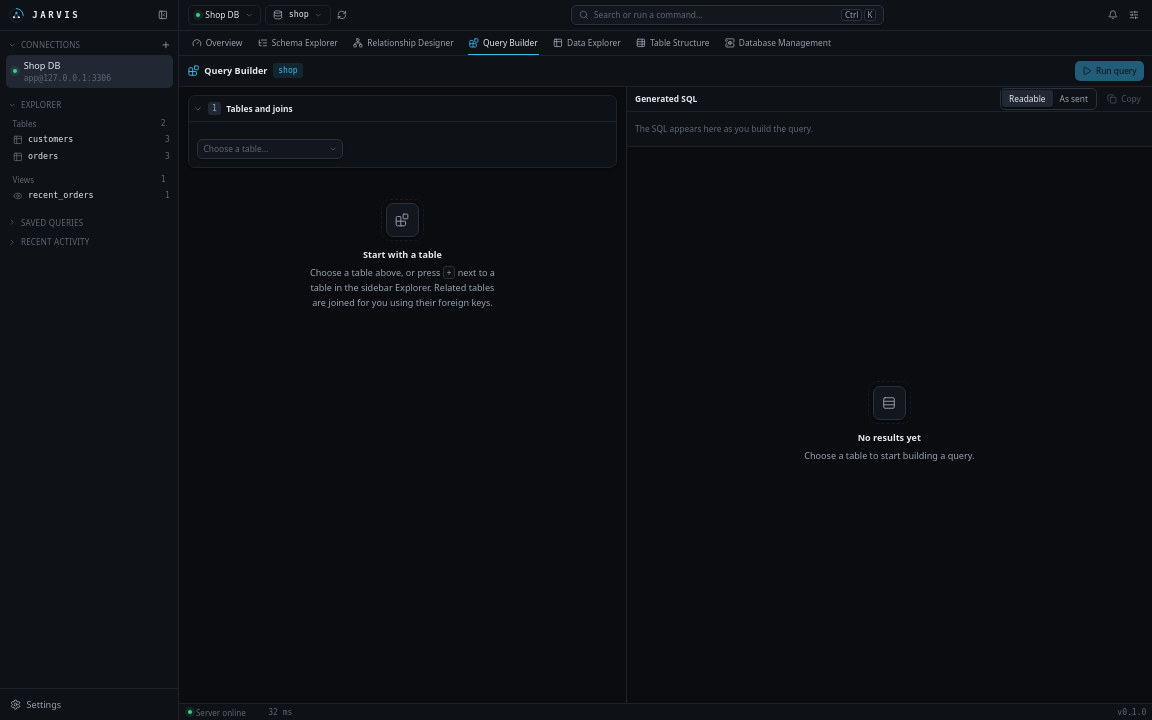
Scenario: visual query builder › shows query errors from MySQL
Check: the heading "Query Builder" is shown, box [204,64,267,78]
Select "customers" in the dropdown named "Add table" at (270, 149), box [197,139,343,159]
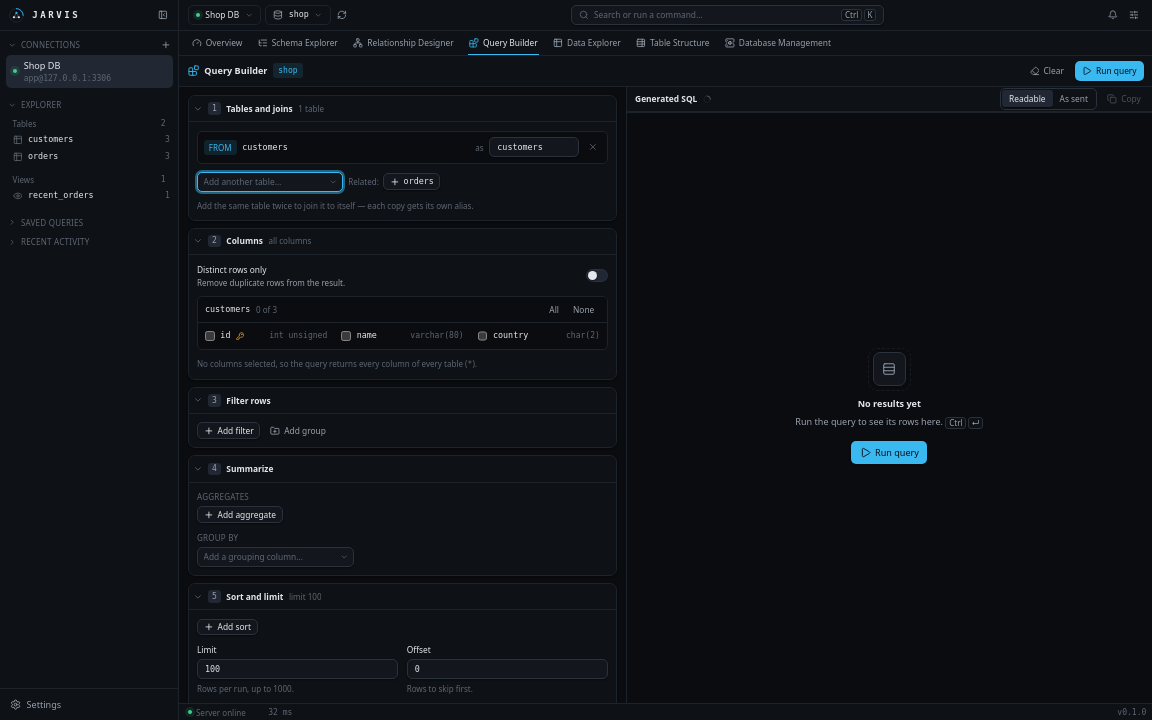
Check: the 1st button "Run query" is enabled
Click the 1st button "Run query" at (1109, 71), box [1075,61,1144,81]
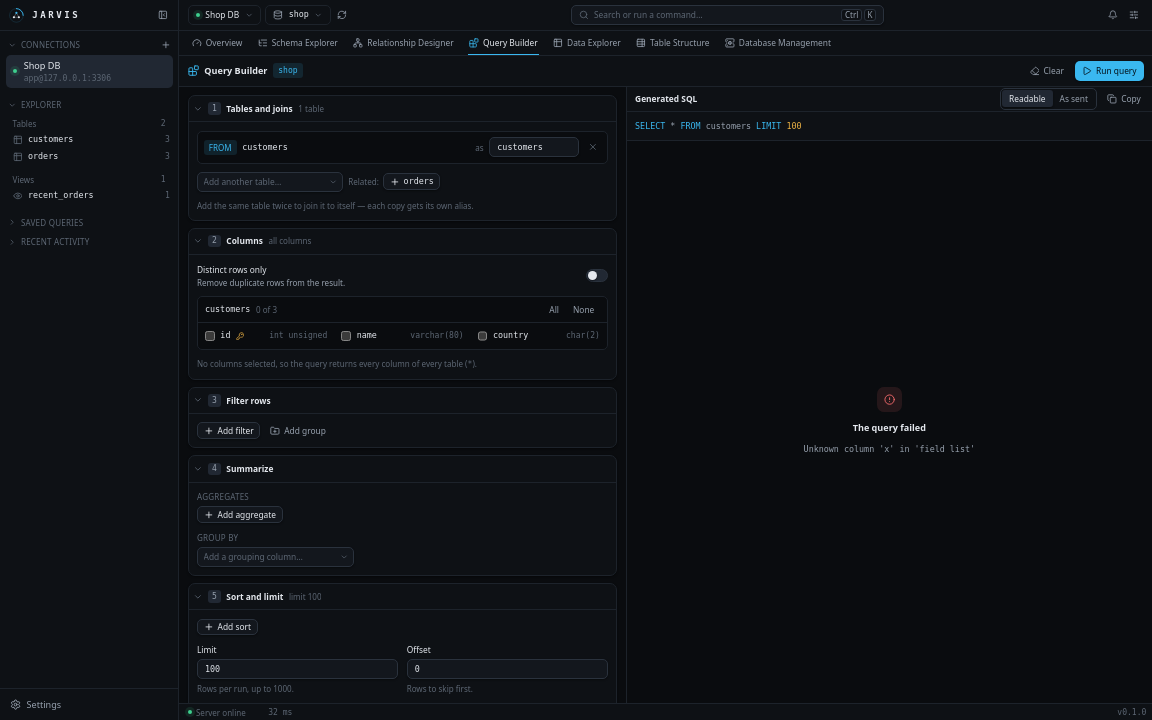
Check: the message "The query failed Unknown column 'x' in 'field list'" is shown, box [804,387,975,454]
